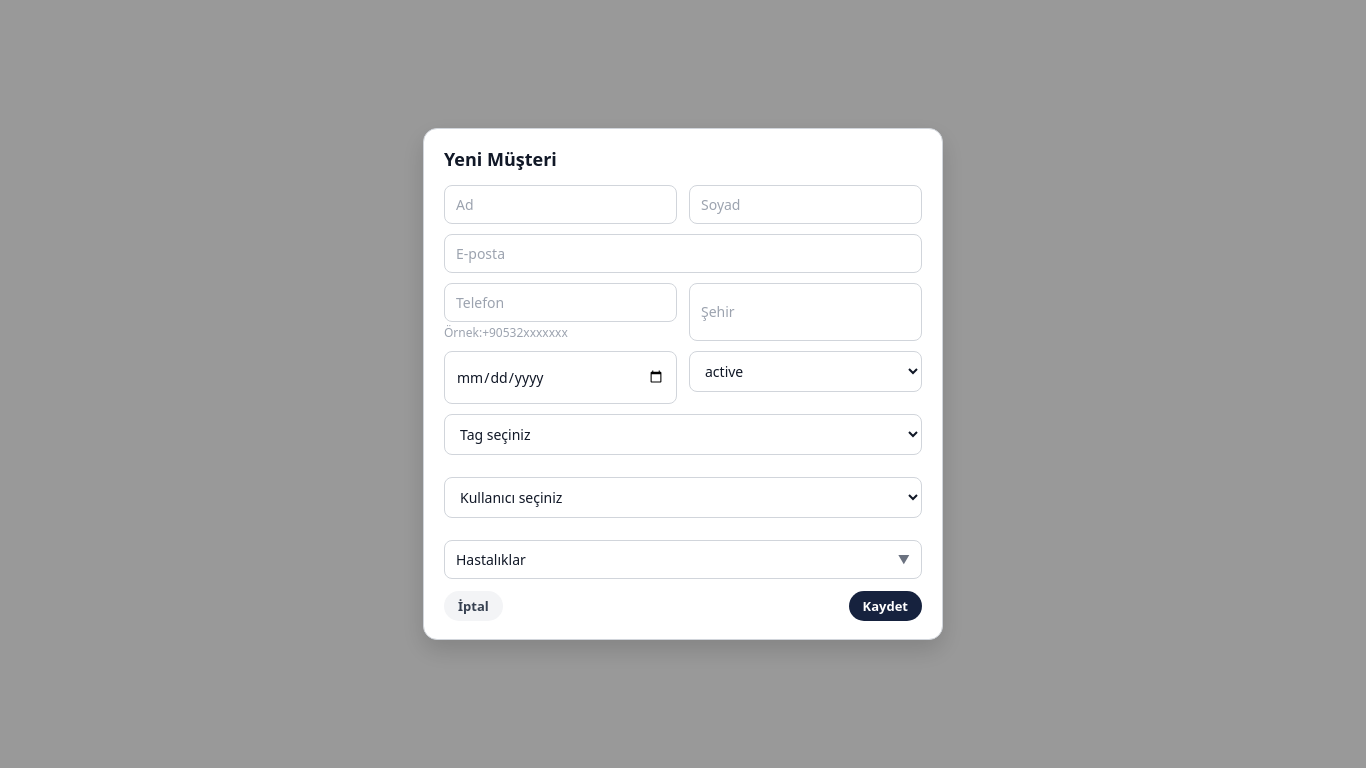
Test case: CustomerCreateModal › clears tag and assigned when status changes to pool
Expected: the field with placeholder "Ad" is shown, x1=444 y1=185 x2=677 y2=224
Note: first select is status
Select "pool" in the 1st dropdown: (806, 371) x1=689 y1=351 x2=922 y2=392
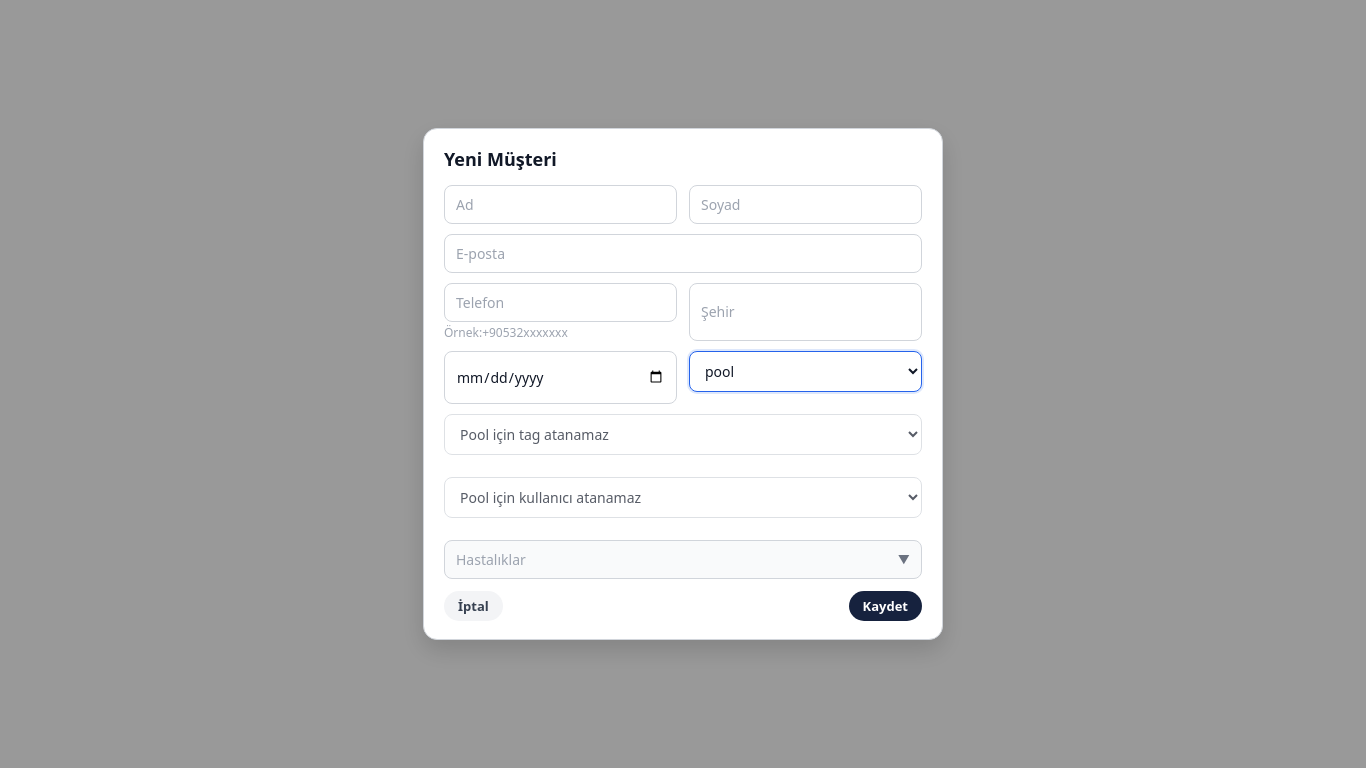
Expected: the 2nd dropdown shows "Pool için tag atanamaz", x1=444 y1=414 x2=922 y2=455
